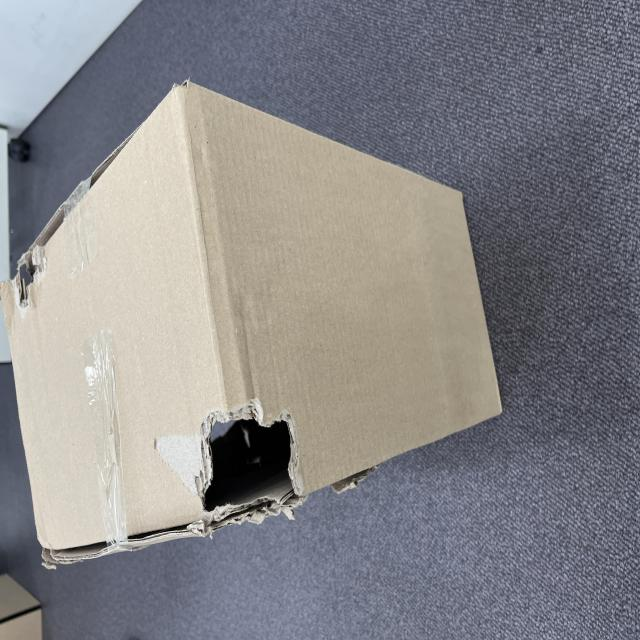damaged: (88, 271, 175, 396)
